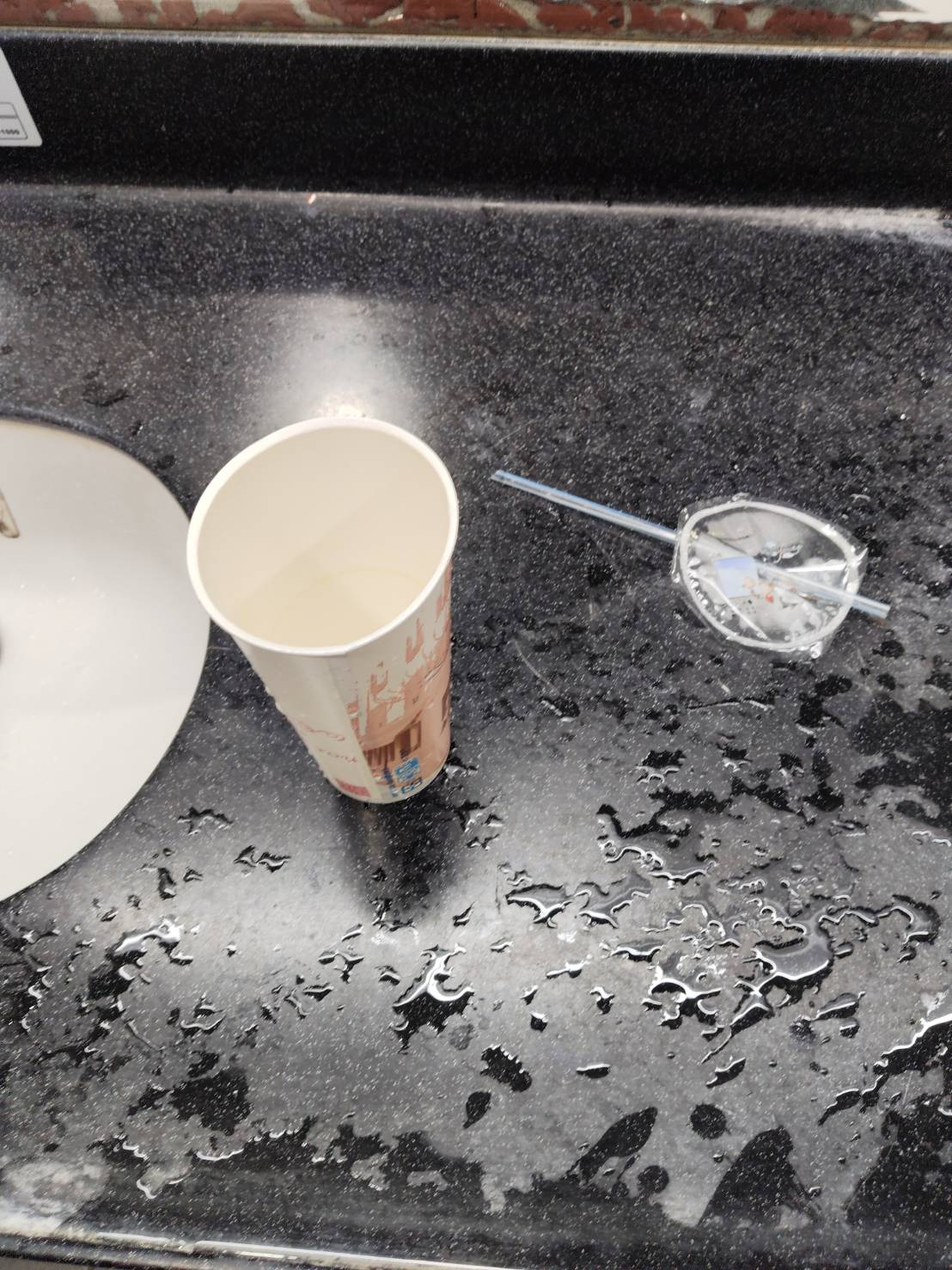paper: (177, 381, 461, 875)
plastic: (486, 417, 909, 680)
